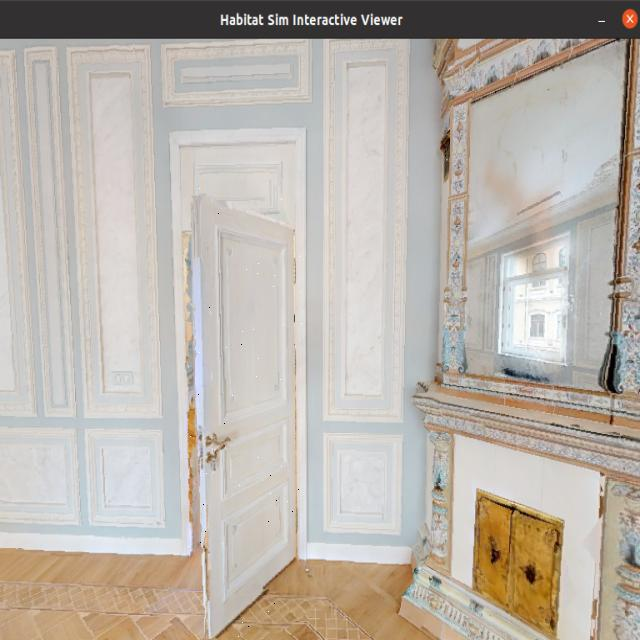door: (186, 185, 307, 640)
